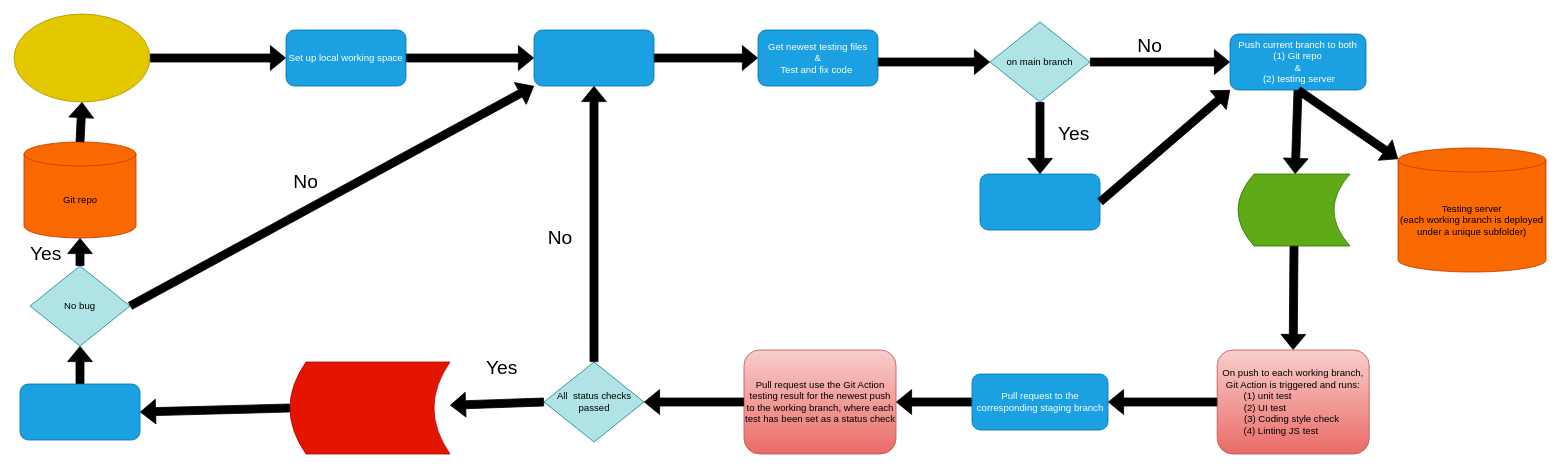
Some shapes in this 1560 by 468 pixel diagram are drawn without their labels. Each missing label, with the centre of its shape:
"(1) Update E2E test (2) Update unit test (3) Merge to [main] branch" goes at [79,411].
"Accept pull request (a push to the staging branch)" goes at [369,407].
"Clone Git repo to local machine" goes at [81,57].
"Coding locally" goes at [593,57].
"Use tool to auto generate JSDocs" goes at [1039,201].
"working branch of Git repo" goes at [1293,209].
